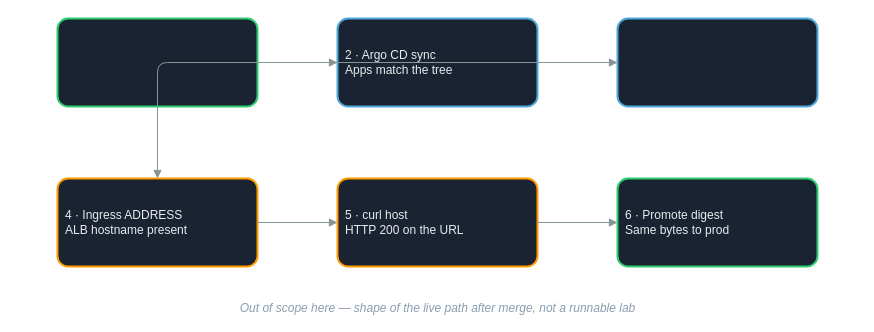
This 874x332 diagram has some shape labels left out. The shapes that lost their labels are listed below. From the top down, each one's box as (x1, y1, x2, y2) in pixels, then its label:
(56, 17, 258, 107): 1 · PR merge Human approved Git
(616, 17, 818, 107): 3 · Synced / Healthy Parent + child apps
